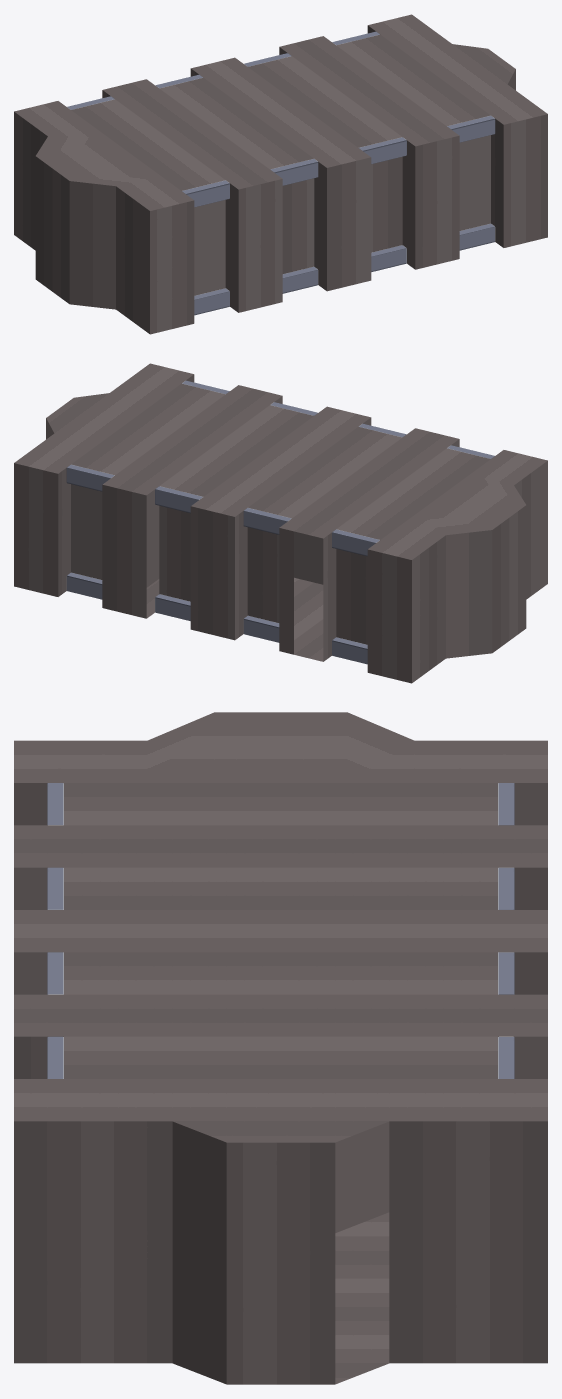
Rendered from Building02.obj.
3 renders of one model, top to bottom at view 1: azimuth 30°, elevation 25°; view 2: azimuth 150°, elevation 25°; view 3: azimuth 270°, elevation 25°, orthographic. The views are drawn at different scales.
Parts seen in each view (by area): view 1: cuboid; view 2: cuboid; view 3: cuboid.
Boxes of the visible parts, x1,y1,x2,y2 form: cuboid: (14,14,547,334); cuboid: (14,363,547,683); cuboid: (14,712,547,1384).
Size of the model in its own units: 3.81 by 1 by 2.
